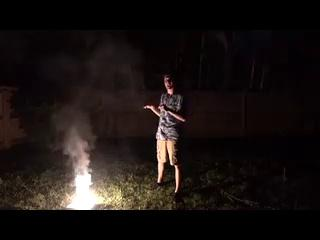Fire: (68, 153, 96, 210)
